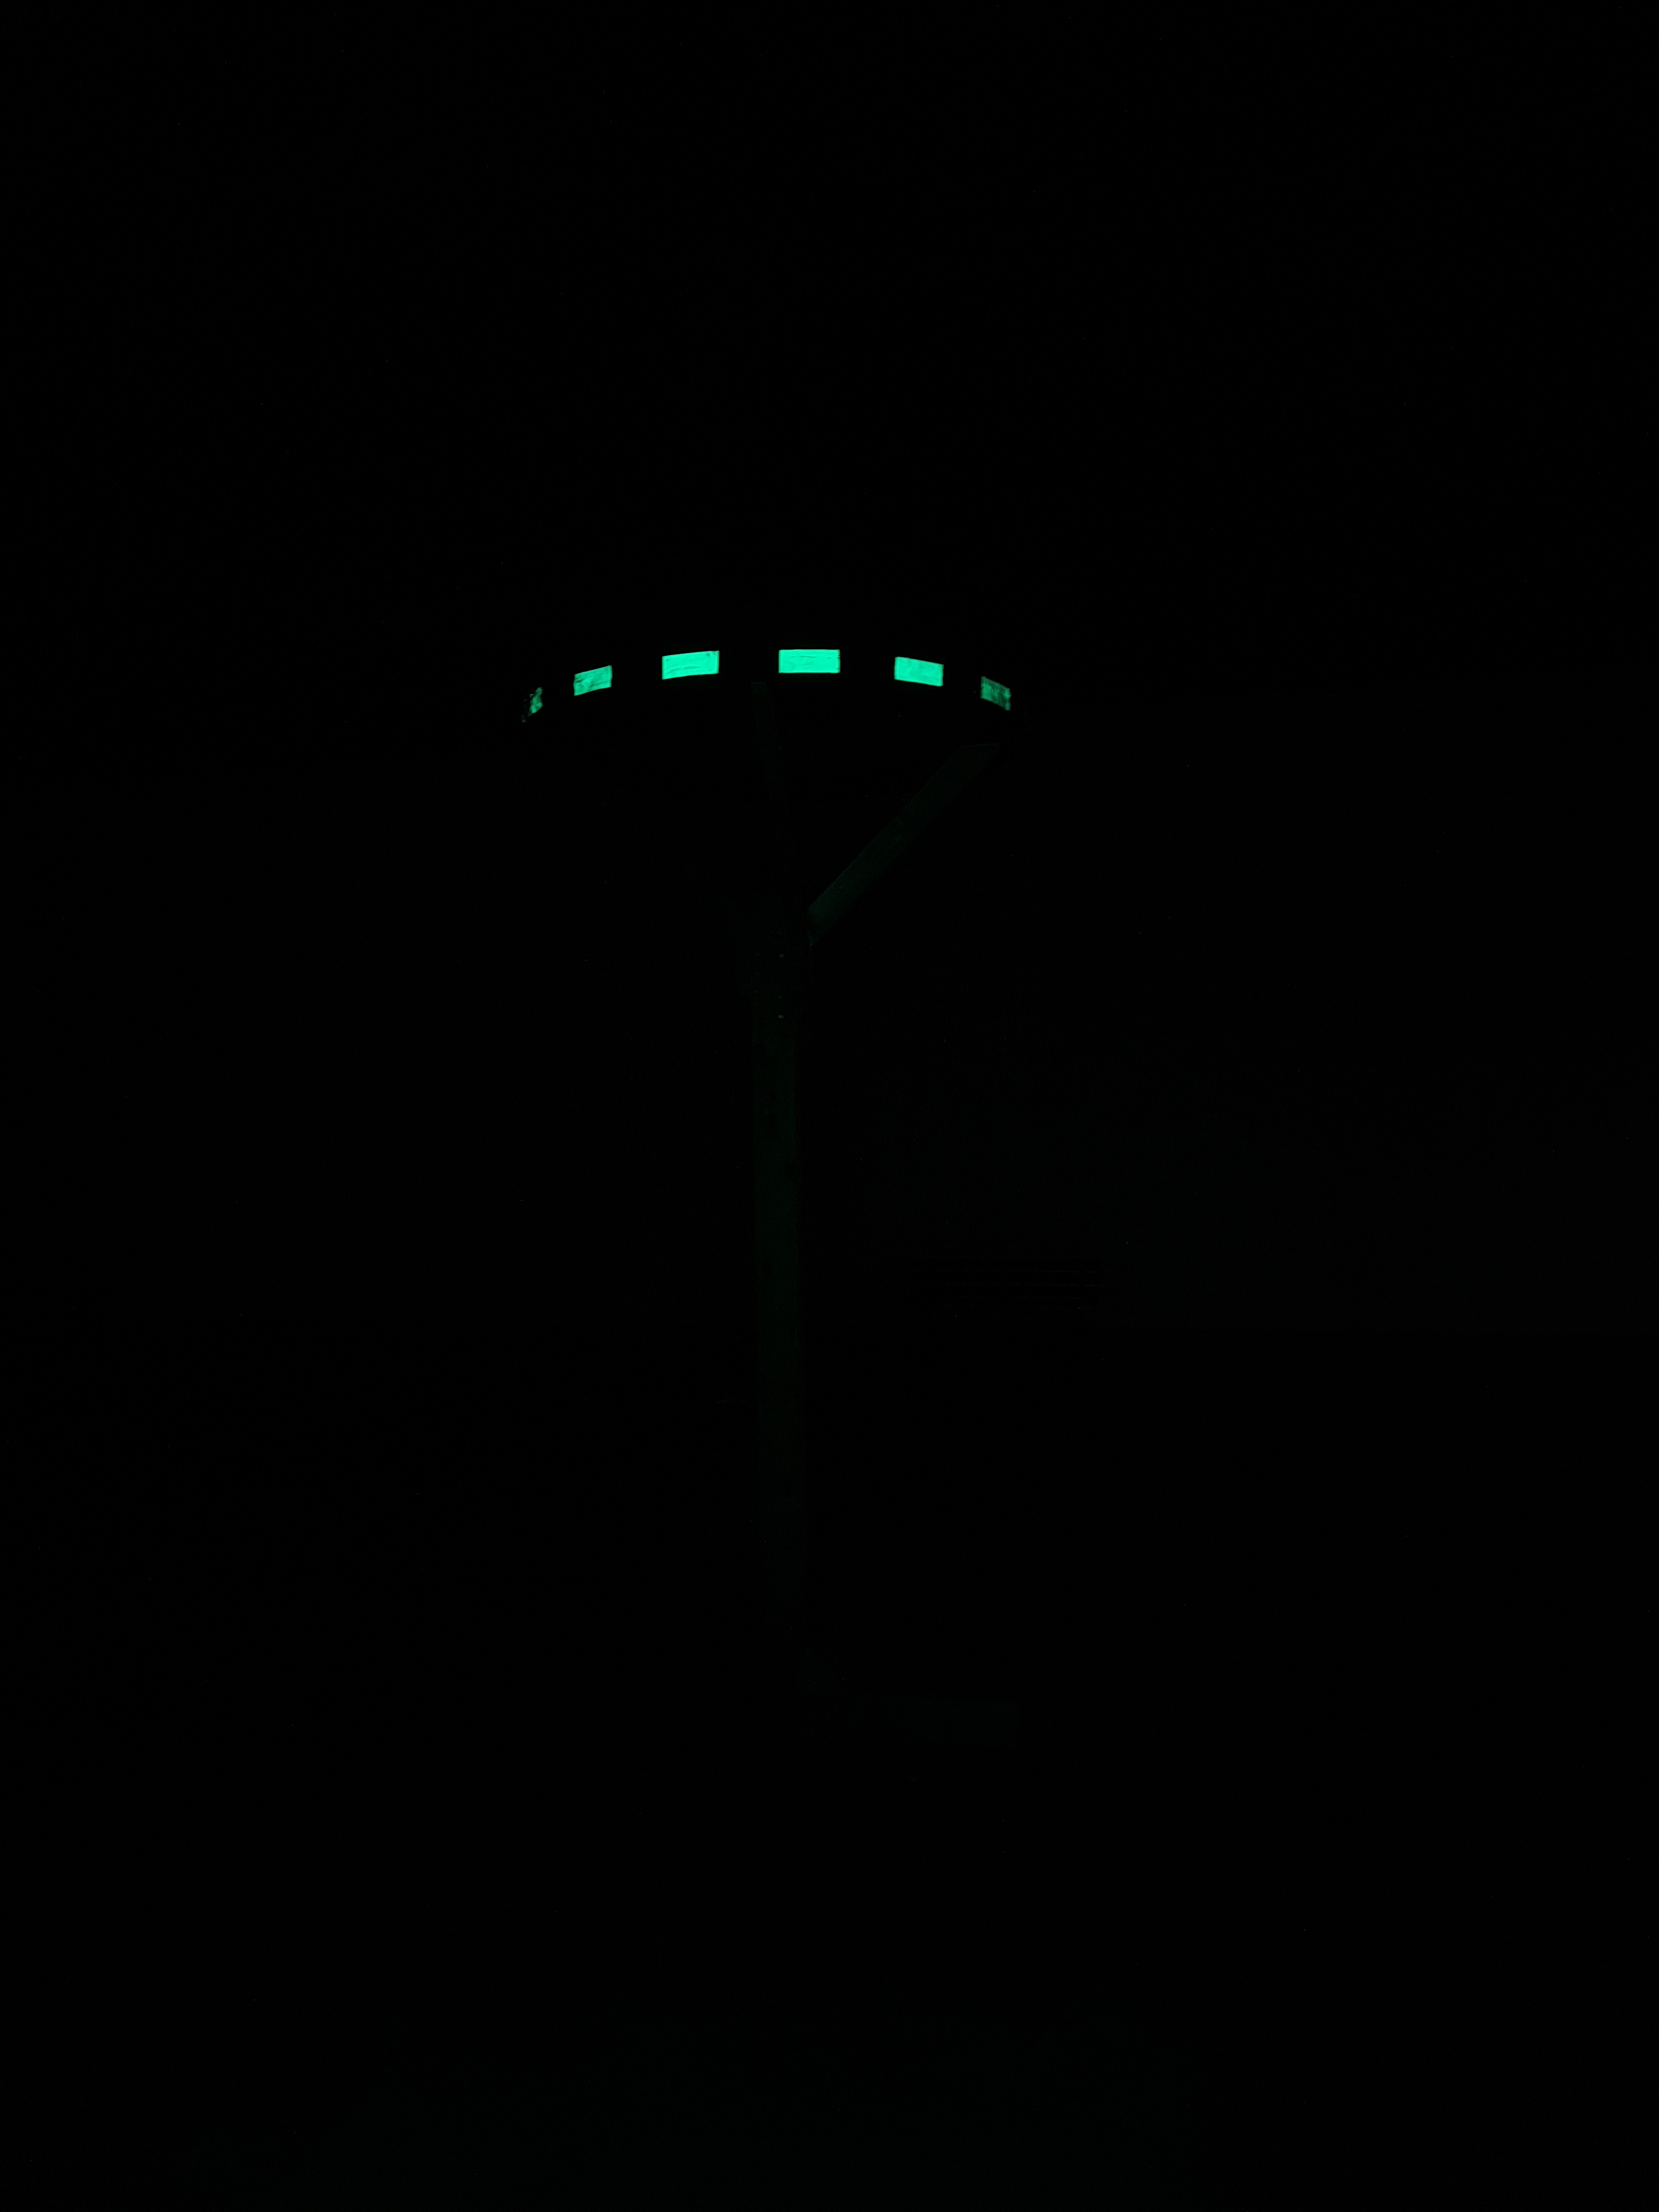hoop: (518, 643, 1018, 725)
